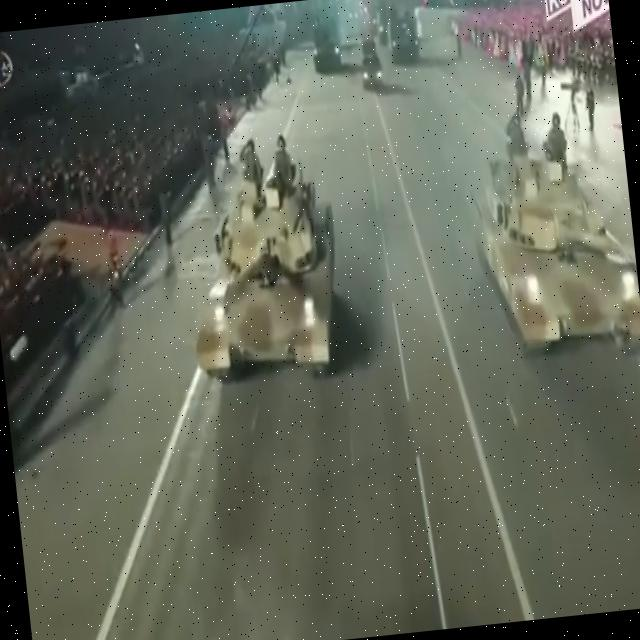north tank: (454, 83, 640, 385), (168, 122, 364, 391)
